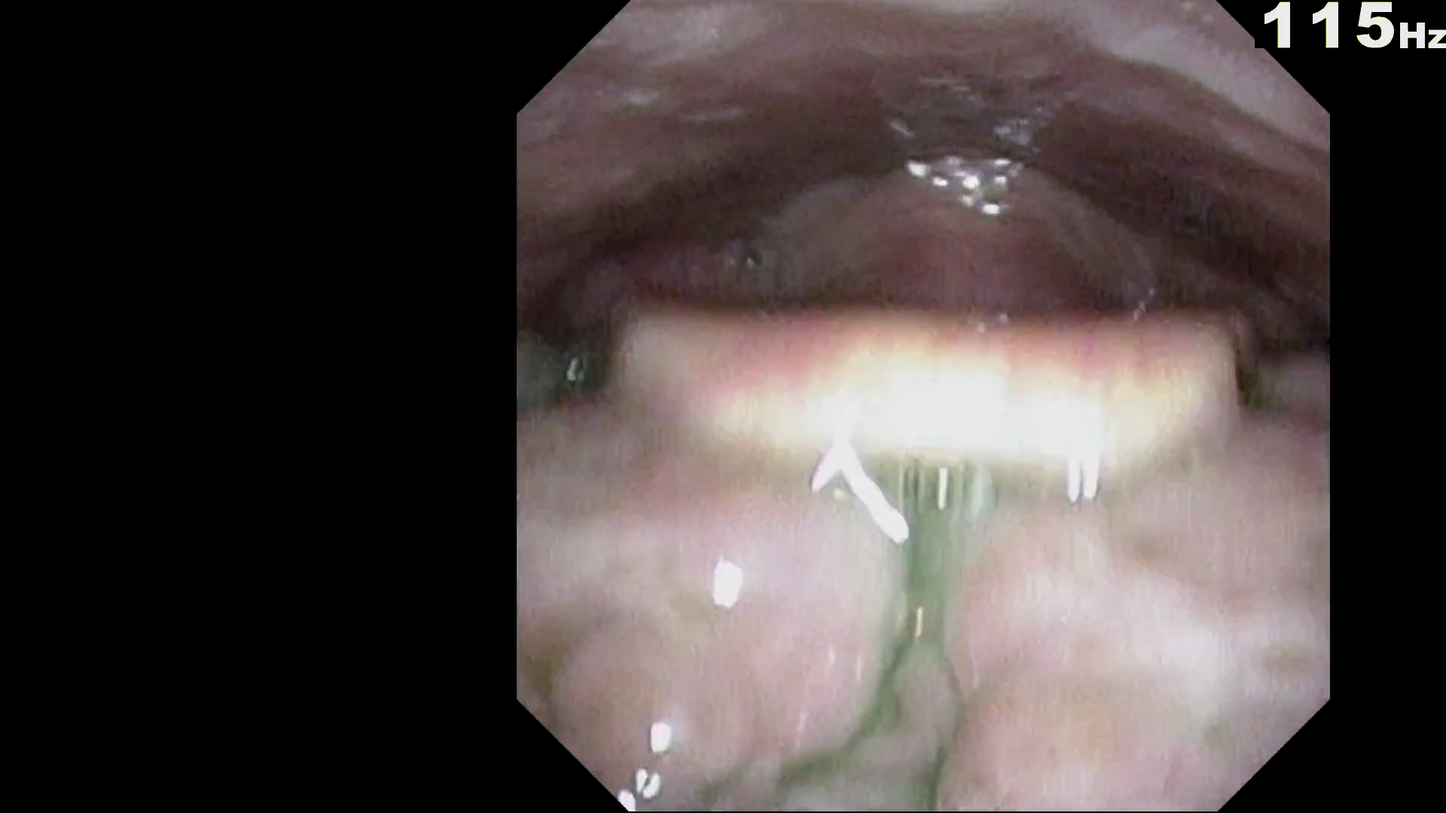epiglottis: (564, 314, 1284, 532)
trachea: (859, 355, 1045, 447), (926, 340, 1047, 478)
